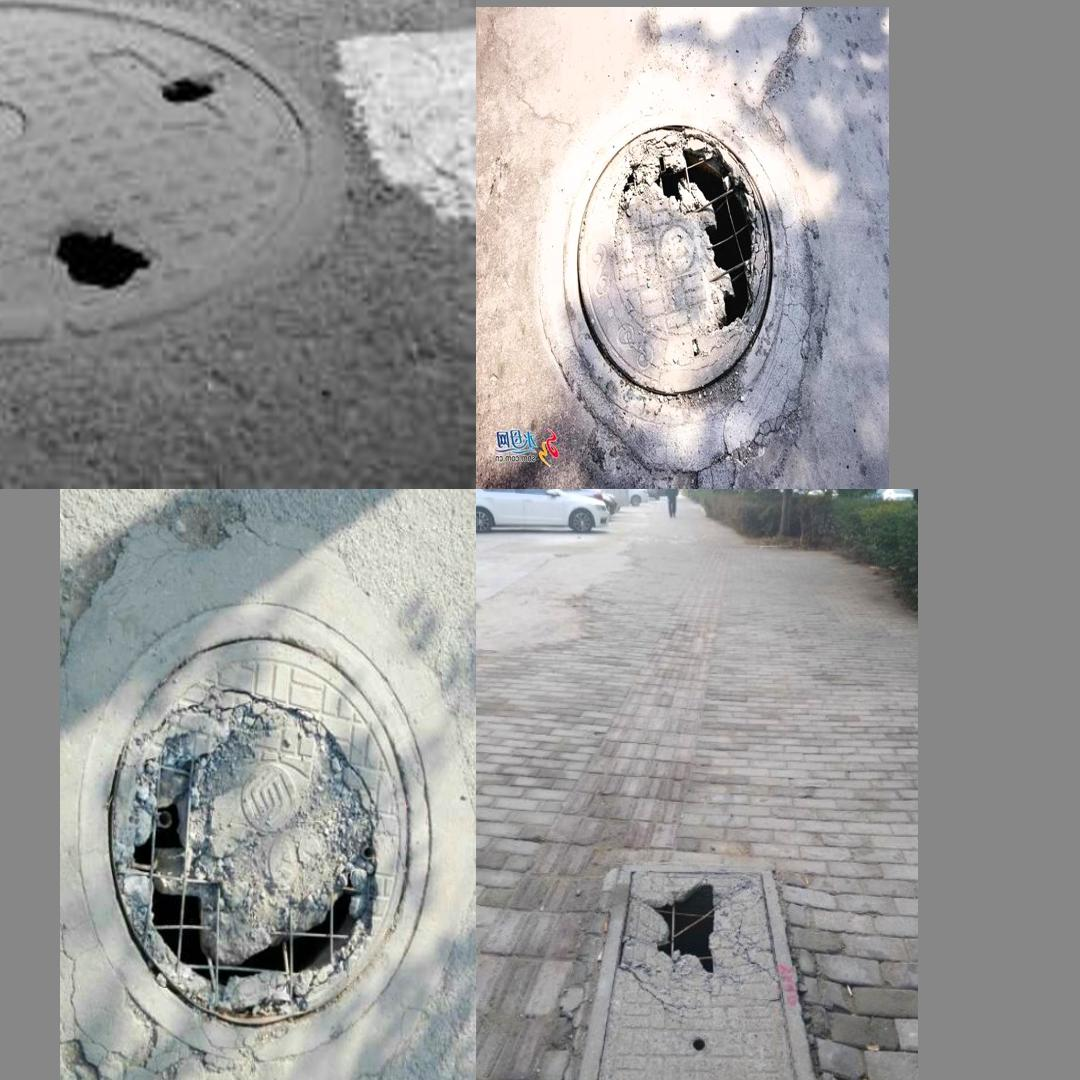broke: (78, 603, 430, 1057), (0, 24, 401, 321), (524, 95, 830, 455), (571, 860, 820, 1080)
